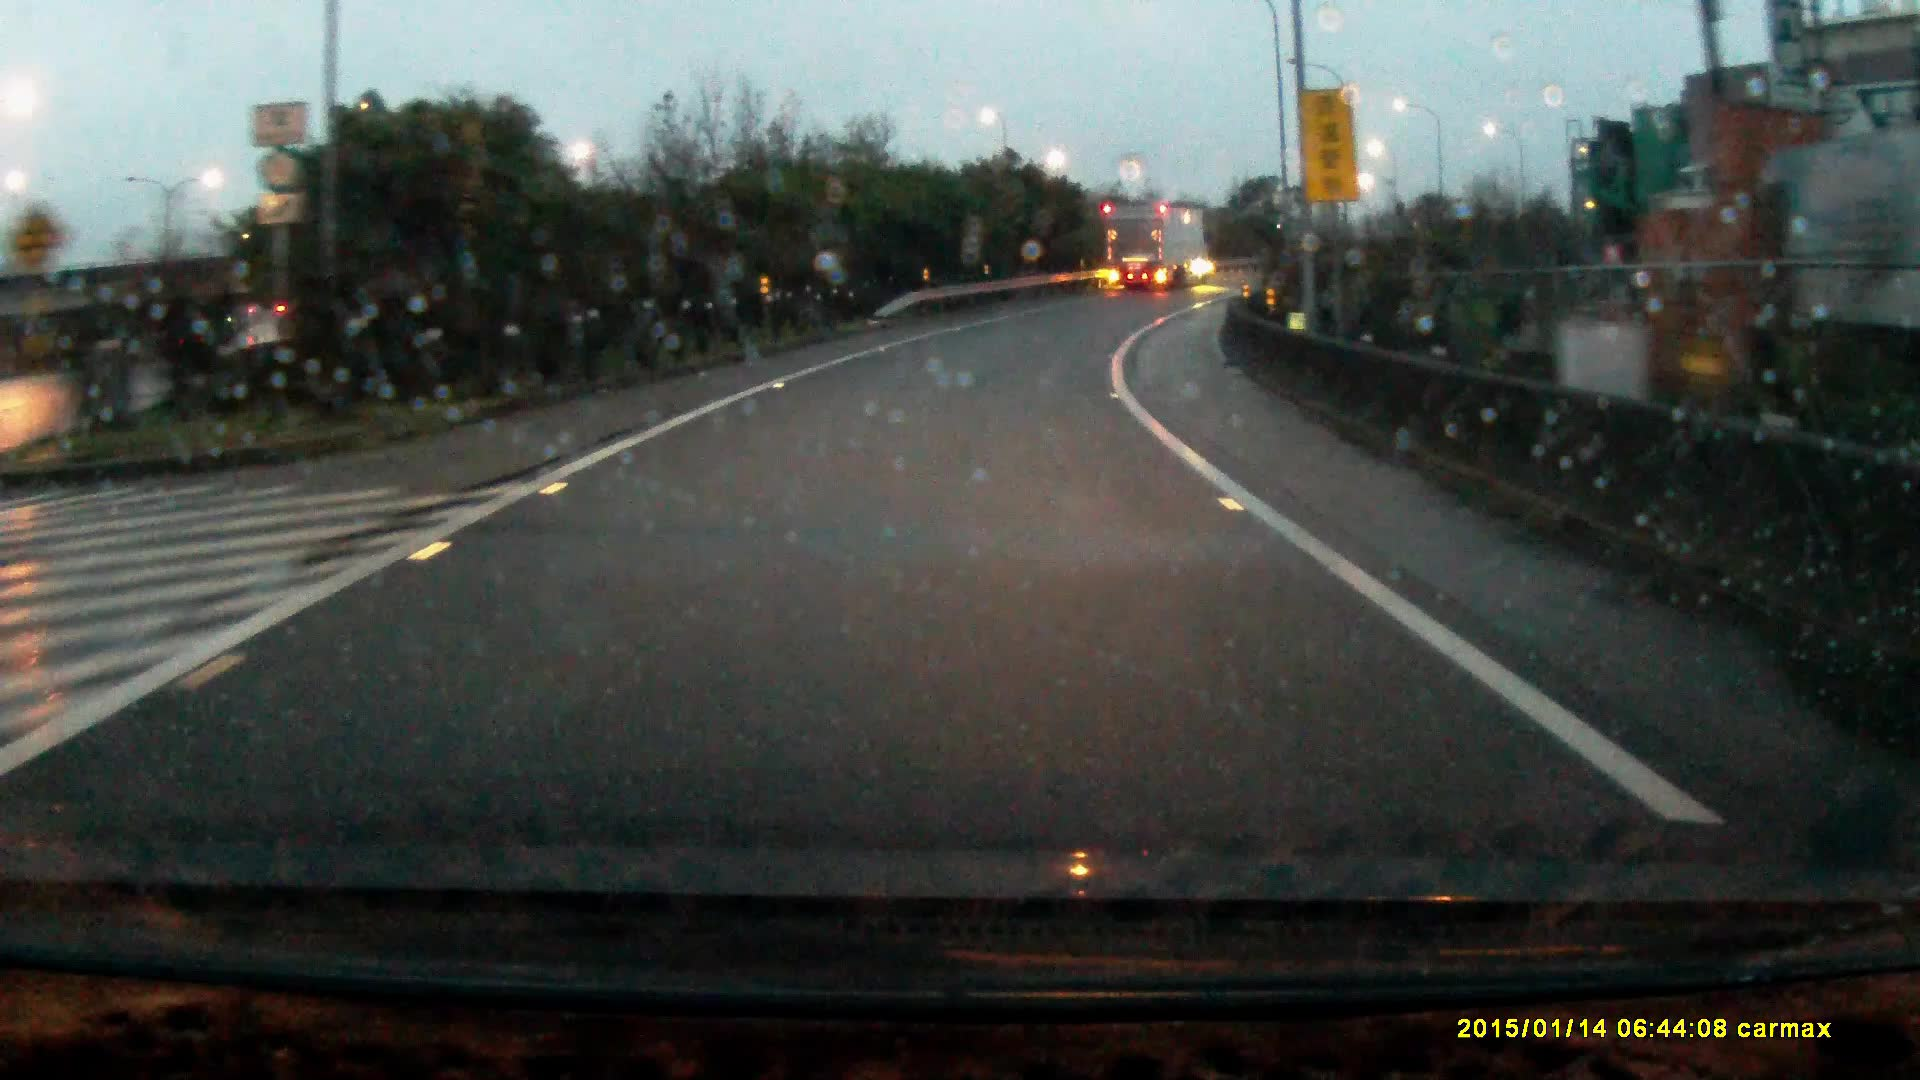vehicle: (1104, 203, 1212, 293)
